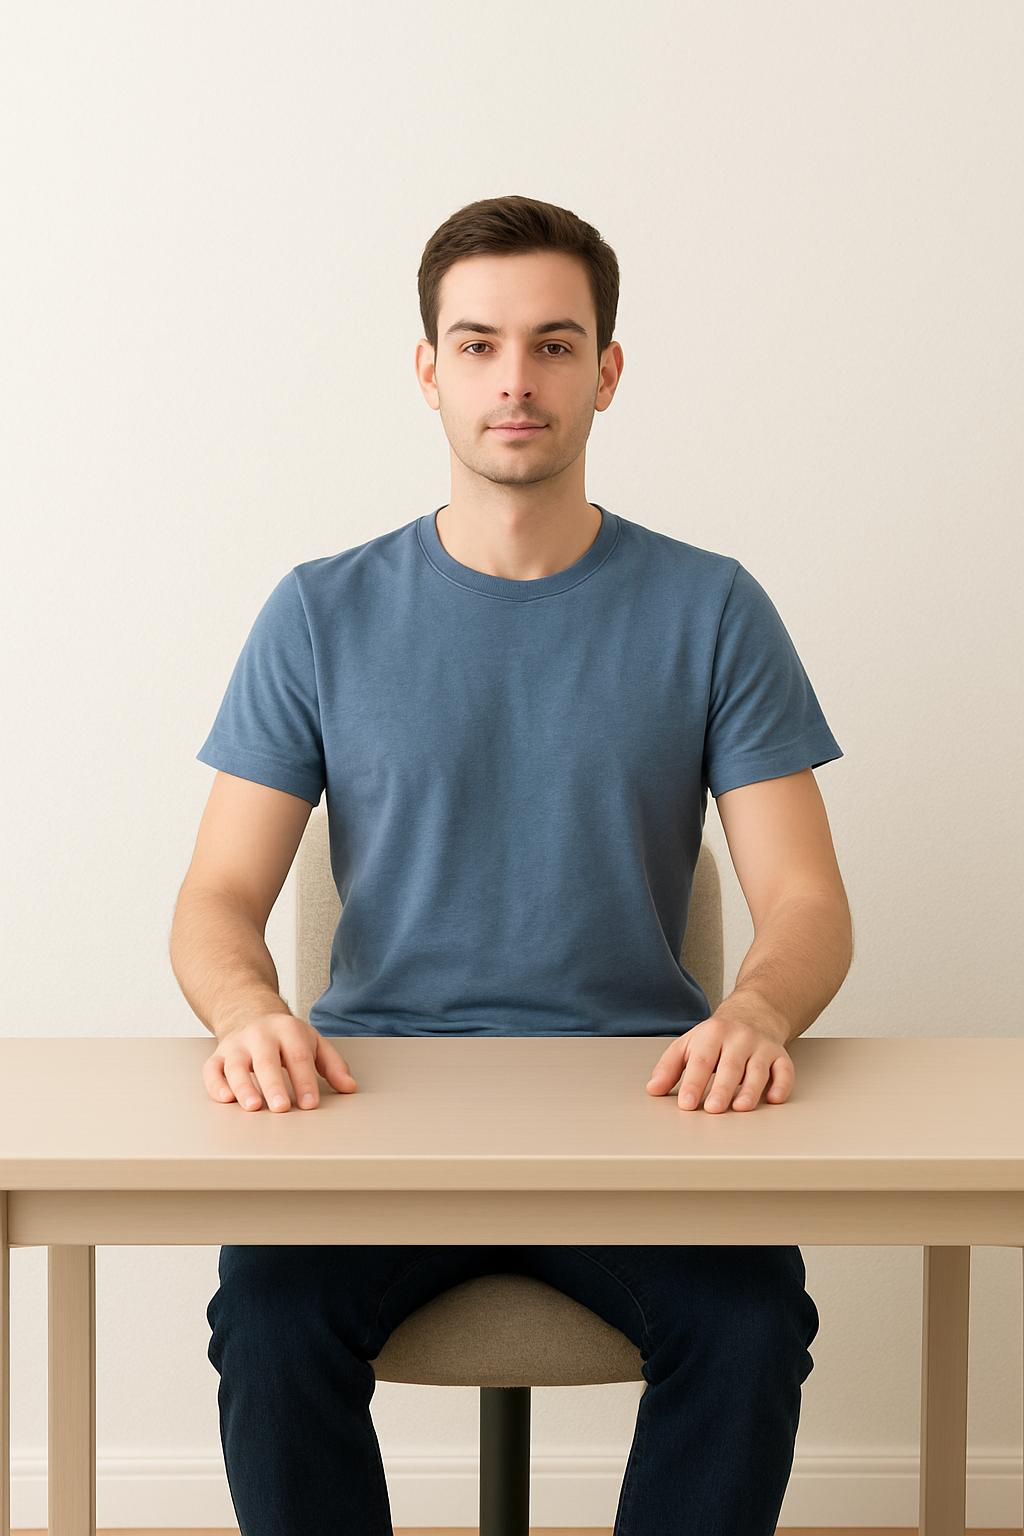Good Sitting Posture: (42, 122, 938, 1198)
